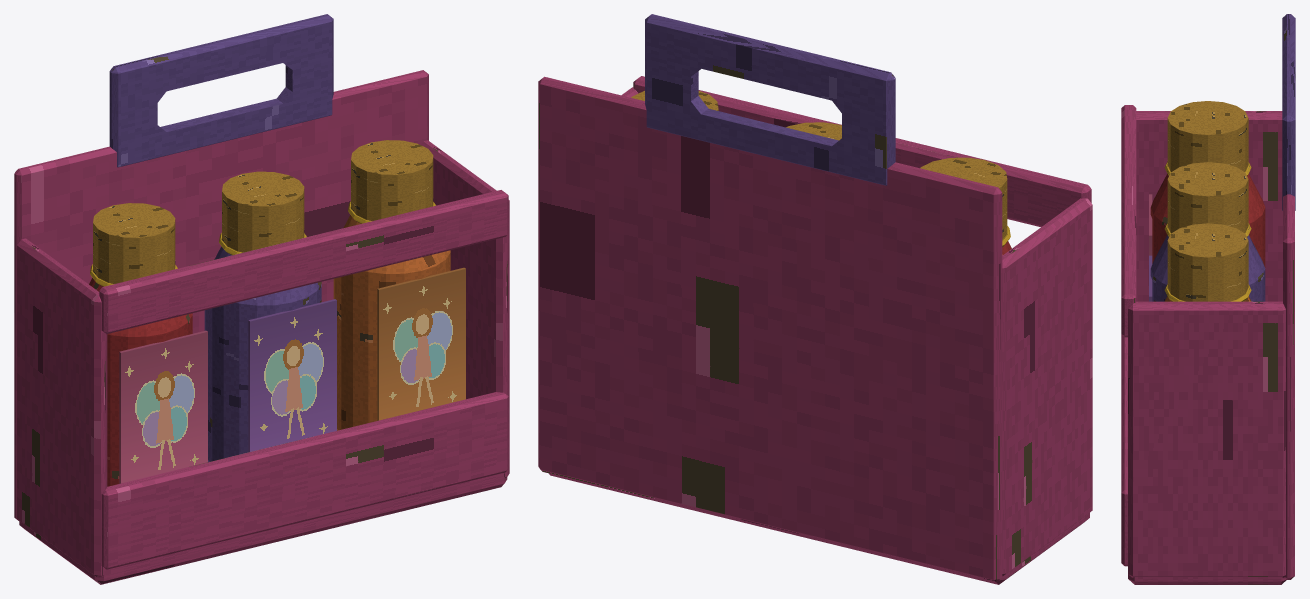
File: bath_gift_set.glb
The picture shows the model from 3 angles, left to right: view 1: azimuth 30°, elevation 25°; view 2: azimuth 150°, elevation 25°; view 3: azimuth 270°, elevation 25°; orthographic projection. The views are drawn at different scales.
Visible parts, largest first — view 1: bath_gift_set; view 2: bath_gift_set; view 3: bath_gift_set.
Part boxes in pixels (x1,y1,x2,y2): bath_gift_set: [14, 14, 509, 584]; bath_gift_set: [538, 14, 1092, 584]; bath_gift_set: [1121, 14, 1295, 584].
Size of the model in its own units: 0.277 by 0.2785 by 0.1035.
9 materials, 9 textured.
